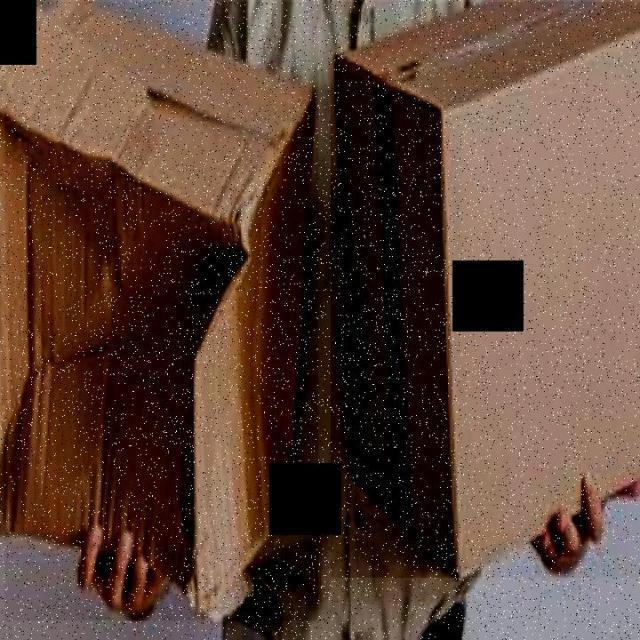box: (4, 2, 318, 620), (330, 2, 640, 578)
